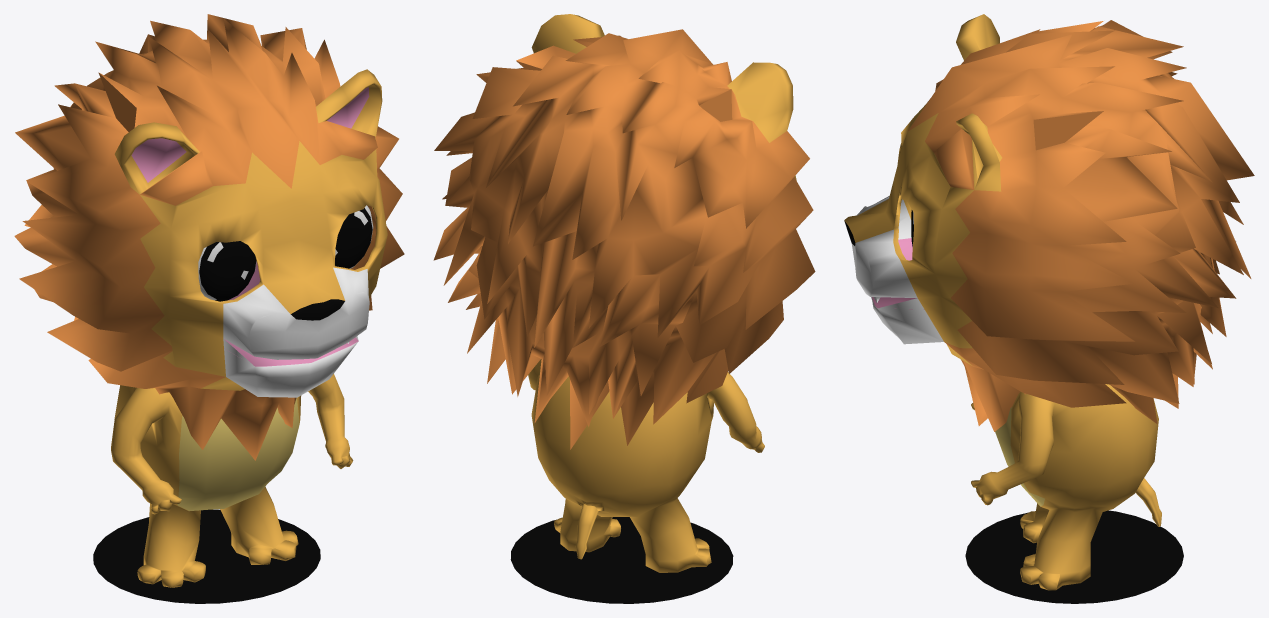
Rendered from gaore.glb.
The picture shows the model from 3 angles, left to right: view 1: azimuth 30°, elevation 25°; view 2: azimuth 150°, elevation 25°; view 3: azimuth 270°, elevation 25°; orthographic projection. The views are drawn at different scales.
Visible parts, largest first — view 1: gaorehead.001, gaorebpdy.001, 円, 眼球.001; view 2: gaorehead.001, gaorebpdy.001, 円; view 3: gaorehead.001, gaorebpdy.001, 円.
Boxes of the visible parts, x1,y1,x2,y2 form: gaorehead.001: (14, 14, 404, 460); gaorebpdy.001: (111, 374, 353, 587); 円: (93, 509, 320, 603); 眼球.001: (198, 205, 373, 301); gaorehead.001: (433, 14, 815, 449); gaorebpdy.001: (528, 359, 764, 572); 円: (510, 517, 733, 603); gaorehead.001: (844, 14, 1254, 431); gaorebpdy.001: (971, 384, 1161, 590); 円: (965, 510, 1183, 603).
Size of the model in its own units: 2.08 by 3.34 by 2.38.
